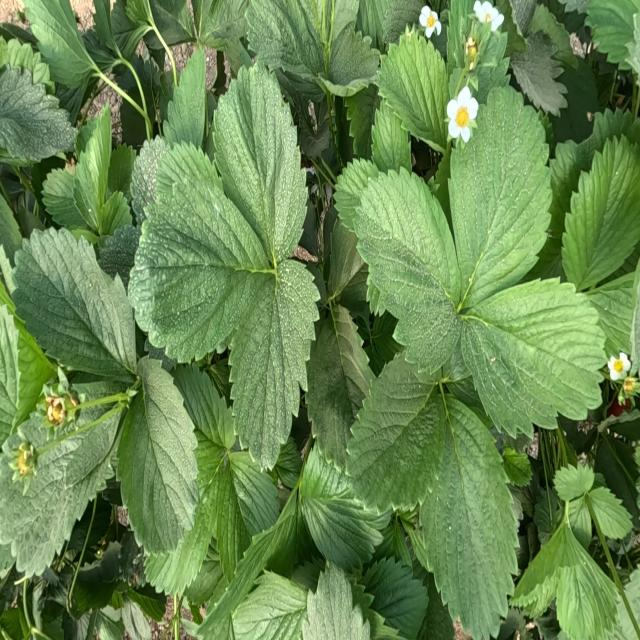Flowers: (446, 87, 478, 143), (475, 1, 502, 31), (419, 6, 440, 38), (607, 353, 630, 380)
Leaves: (133, 140, 270, 360), (3, 373, 132, 573), (422, 393, 516, 637), (461, 279, 605, 433), (450, 90, 551, 304), (356, 170, 459, 375), (528, 109, 640, 279), (11, 230, 135, 379), (214, 61, 304, 262), (229, 263, 316, 470), (118, 360, 198, 553), (200, 484, 299, 639), (348, 354, 443, 511), (562, 136, 639, 290), (299, 442, 389, 569), (377, 30, 450, 149), (216, 451, 280, 583), (175, 363, 235, 495), (1, 67, 75, 165), (307, 314, 353, 471), (556, 530, 619, 639), (168, 470, 219, 595), (447, 0, 508, 98), (246, 0, 324, 76), (23, 0, 90, 85), (361, 556, 427, 638), (302, 562, 370, 639), (232, 572, 307, 639), (513, 524, 567, 616), (74, 108, 112, 229), (512, 34, 567, 114), (586, 269, 636, 356), (165, 47, 206, 147), (327, 217, 368, 316), (551, 59, 599, 142), (332, 305, 373, 397), (325, 28, 379, 95), (586, 0, 637, 67), (334, 159, 378, 232), (130, 136, 166, 224), (359, 0, 423, 48), (528, 5, 577, 66), (0, 36, 54, 89), (372, 101, 411, 172), (192, 0, 246, 50), (98, 225, 140, 289), (344, 85, 379, 158), (42, 170, 86, 227), (1, 306, 19, 444), (587, 485, 631, 539), (90, 191, 132, 247), (70, 567, 116, 617), (93, 0, 133, 53), (150, 0, 195, 44), (373, 514, 411, 566), (55, 78, 95, 123), (108, 143, 136, 200), (1, 195, 21, 263), (120, 100, 146, 149), (567, 496, 591, 548), (122, 596, 151, 639), (502, 446, 532, 487), (291, 556, 325, 591), (131, 88, 139, 98)
Strawberries: (10, 445, 34, 494), (465, 36, 478, 70), (620, 377, 640, 398), (48, 404, 64, 423)
